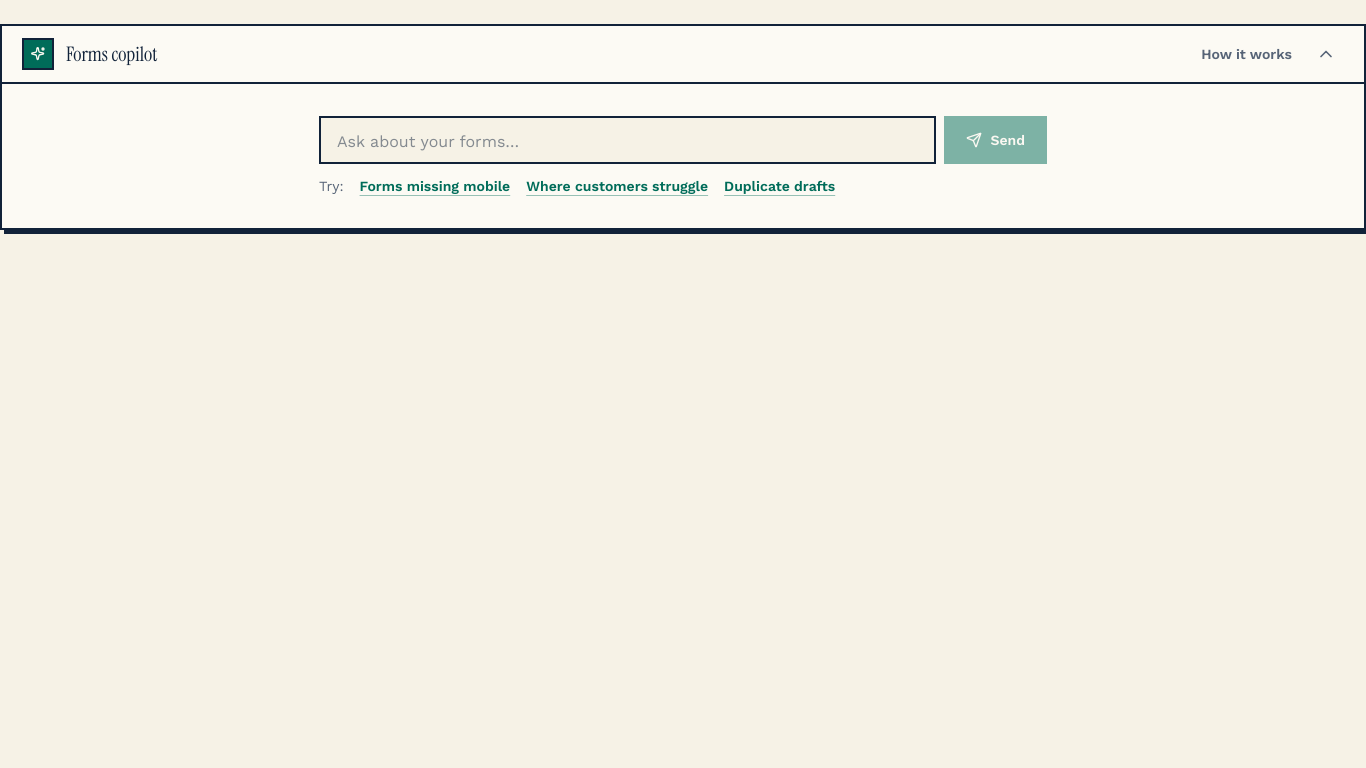
Test: CopilotPanel › applies only the checked actions, then shows the result row
The width and height of the screenshot is (1366, 768).
Type "clean up" into the text box named "Question" at point(628, 140), box [319,116,936,164]
Then press Enter
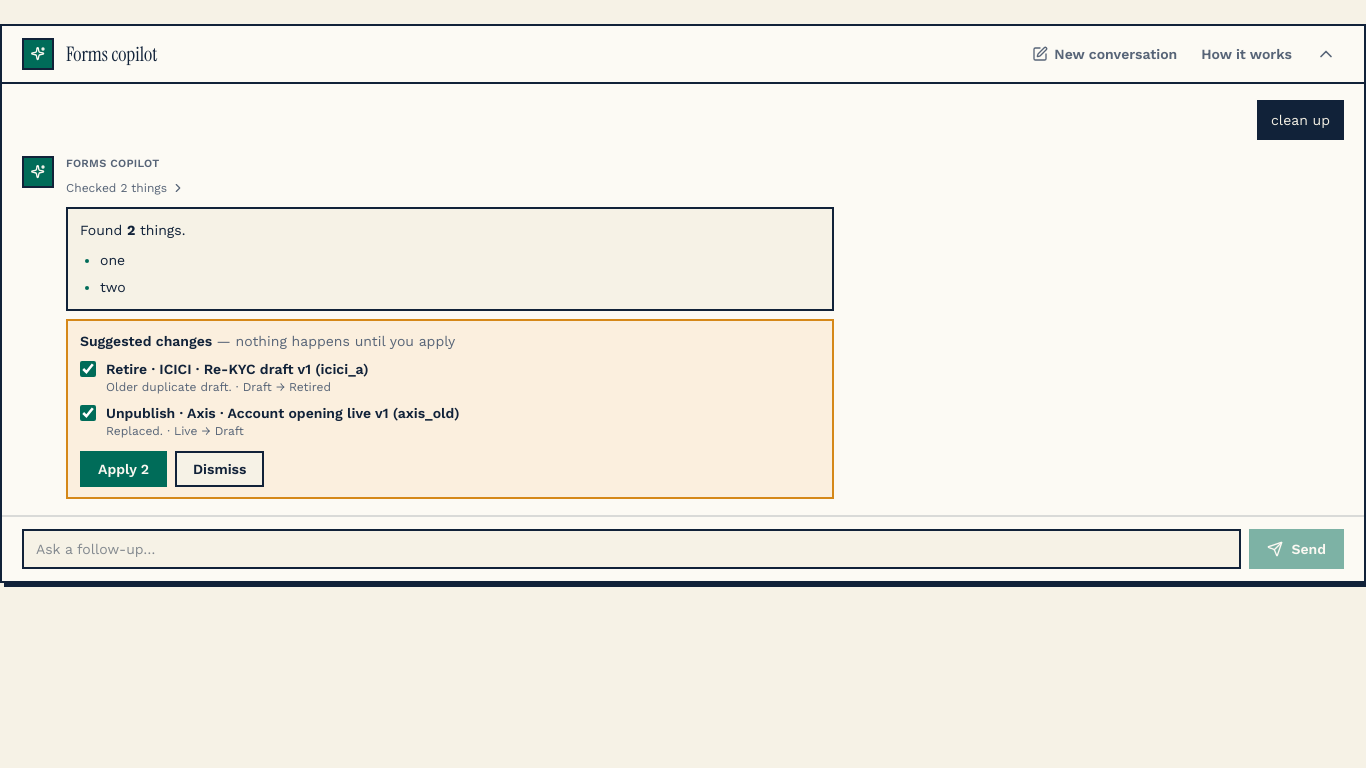
Result: the text "Retire · ICICI · Re-KYC draft v1 (icici_a)" is shown at [106,361,368,377]
Click the 2nd checkbox at point(88, 413), box [80,405,96,421]
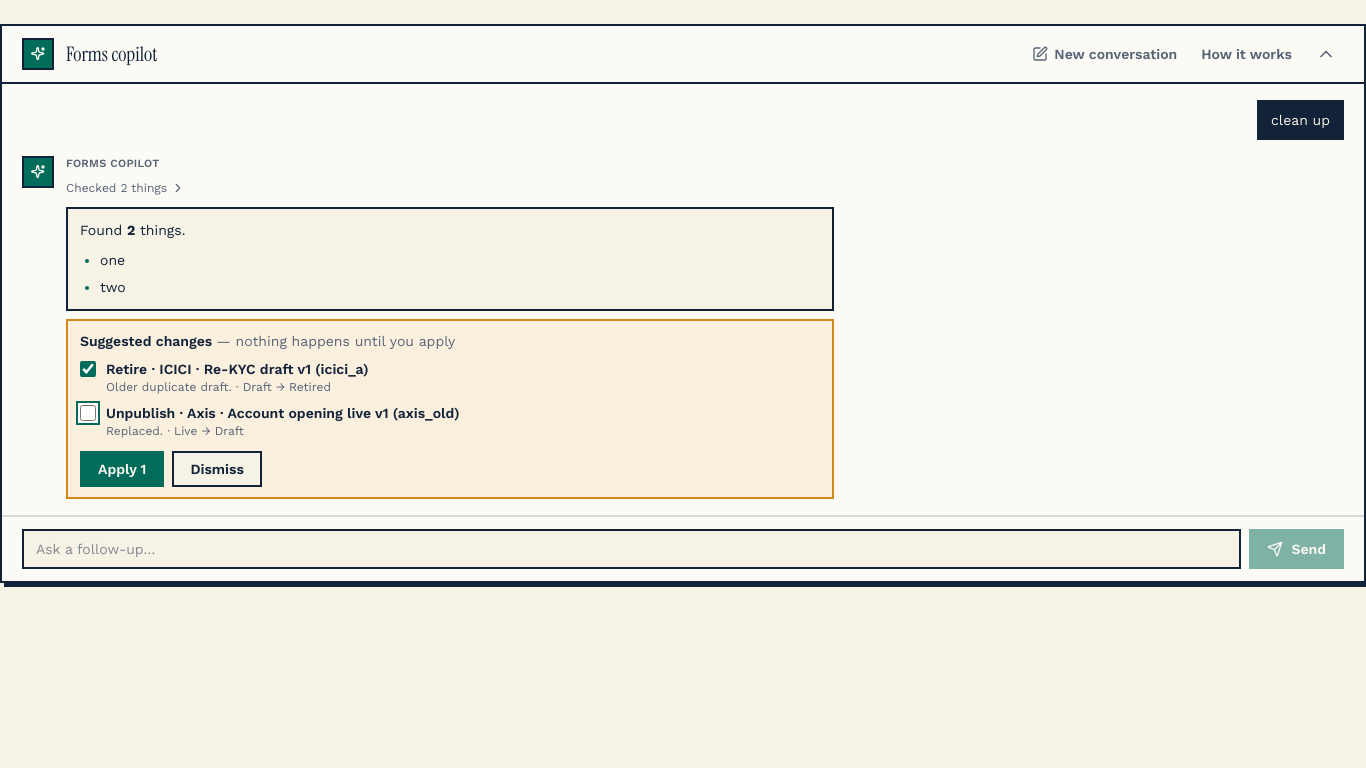
Click the button "Apply 1" at point(122, 469), box [80,451,164,487]
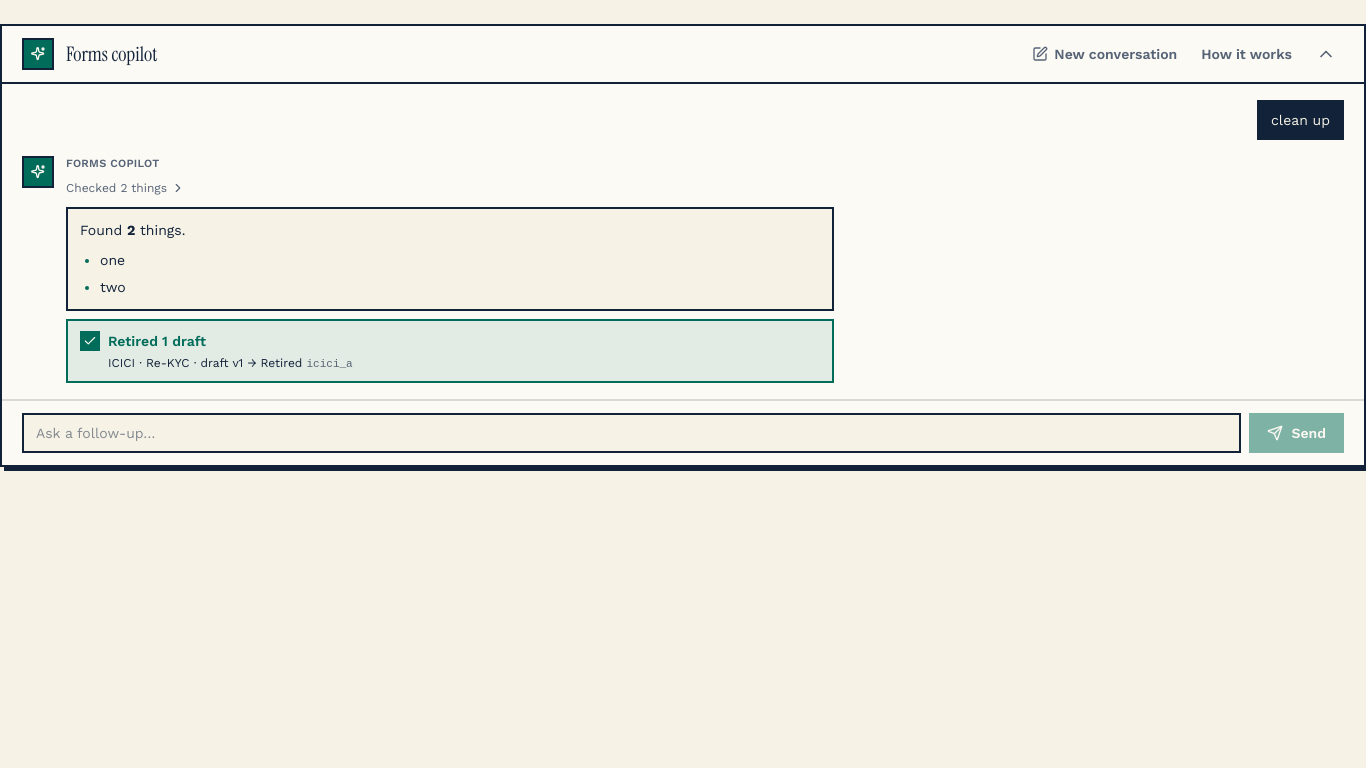
Result: the text "Retired 1 draft" is shown at [80,331,206,351]
Result: the text "apply" is gone
Result: the text "nothing happens until you apply" is gone
